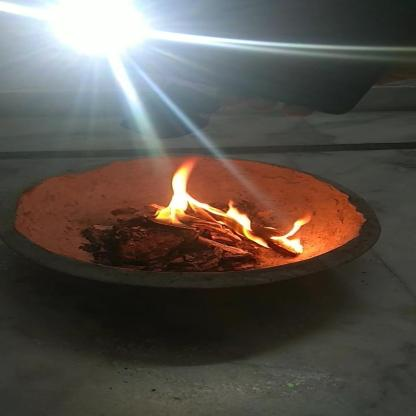fire: (154, 157, 311, 253)
